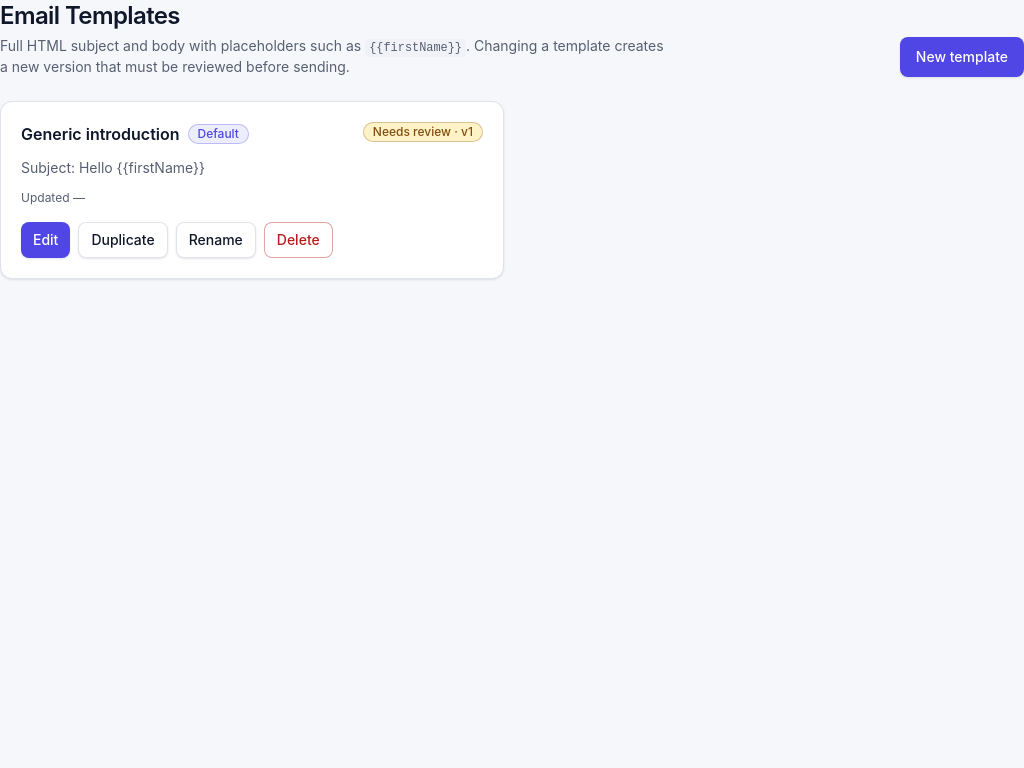
Test: templates page › warns about unsaved changes with an in-app dialog before discarding
This screenshot has width=1024, height=768.
Click the button "New template".
click(962, 57)  # box [900, 37, 1023, 77]
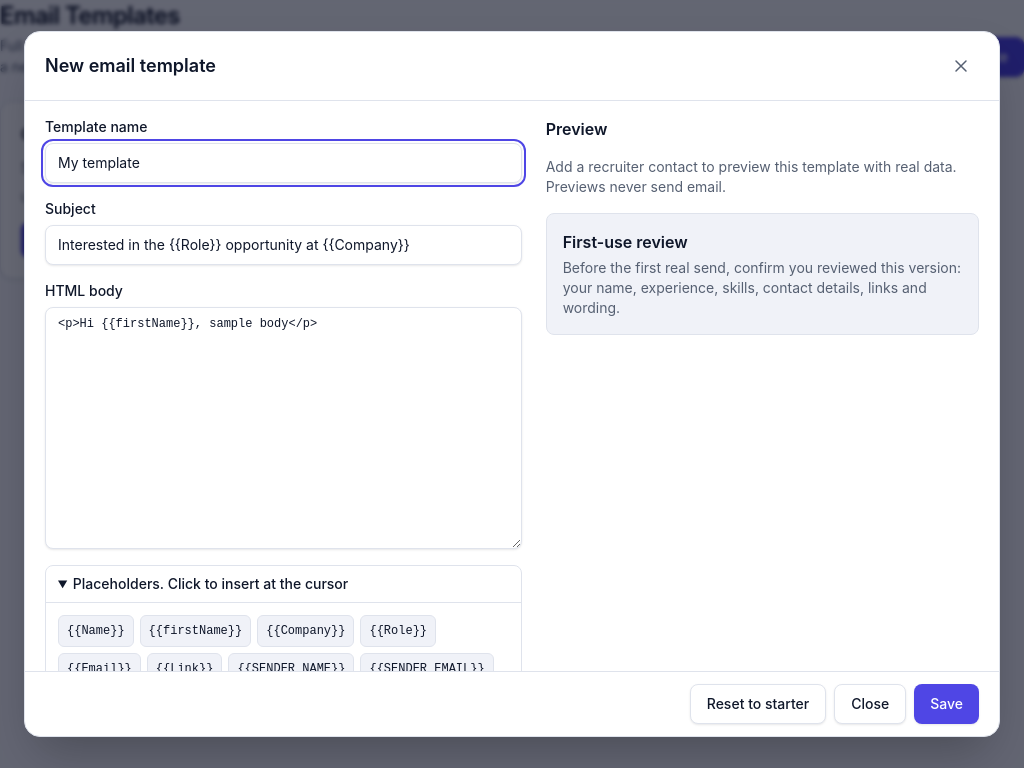
Type " edited" into the field labelled "Subject".
click(283, 245); type(" edited")  # box [45, 225, 522, 265]
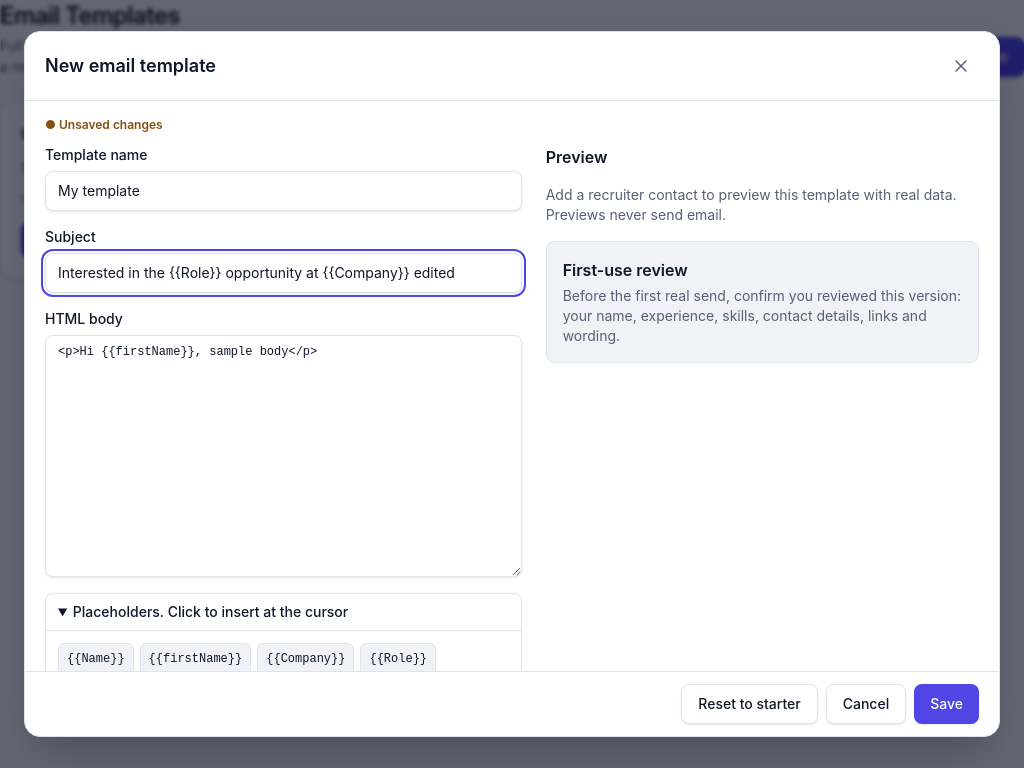
Click the button "Cancel".
click(866, 704)  # box [826, 684, 906, 724]
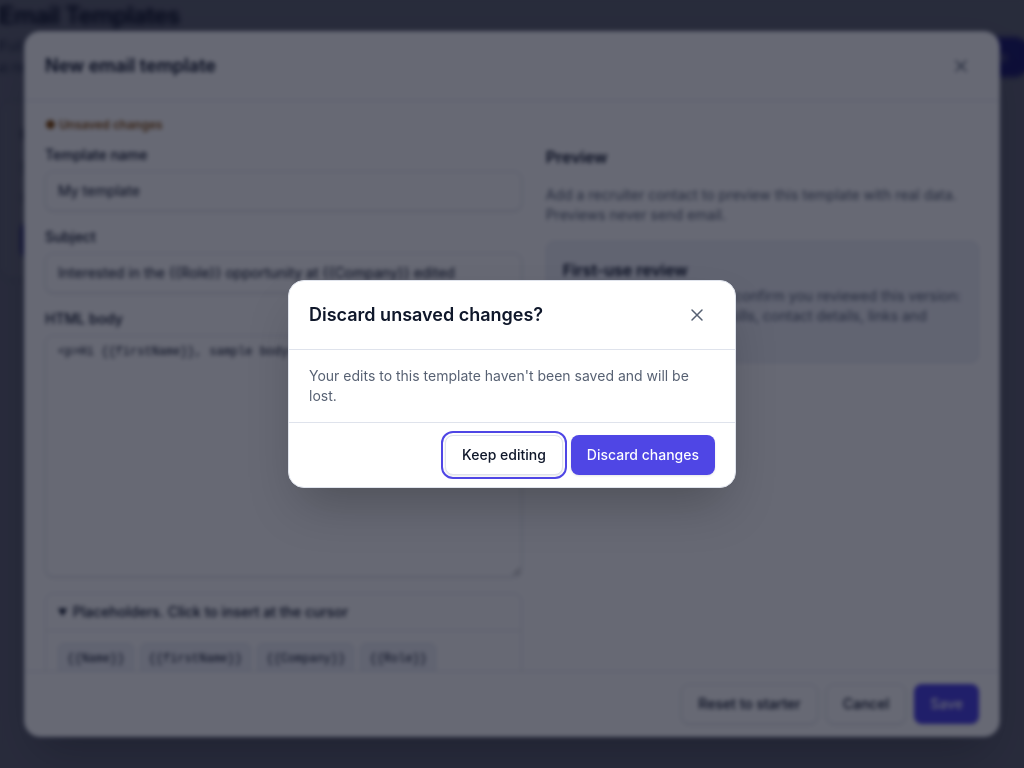
Click the button "Keep editing".
click(504, 455)  # box [445, 435, 563, 475]
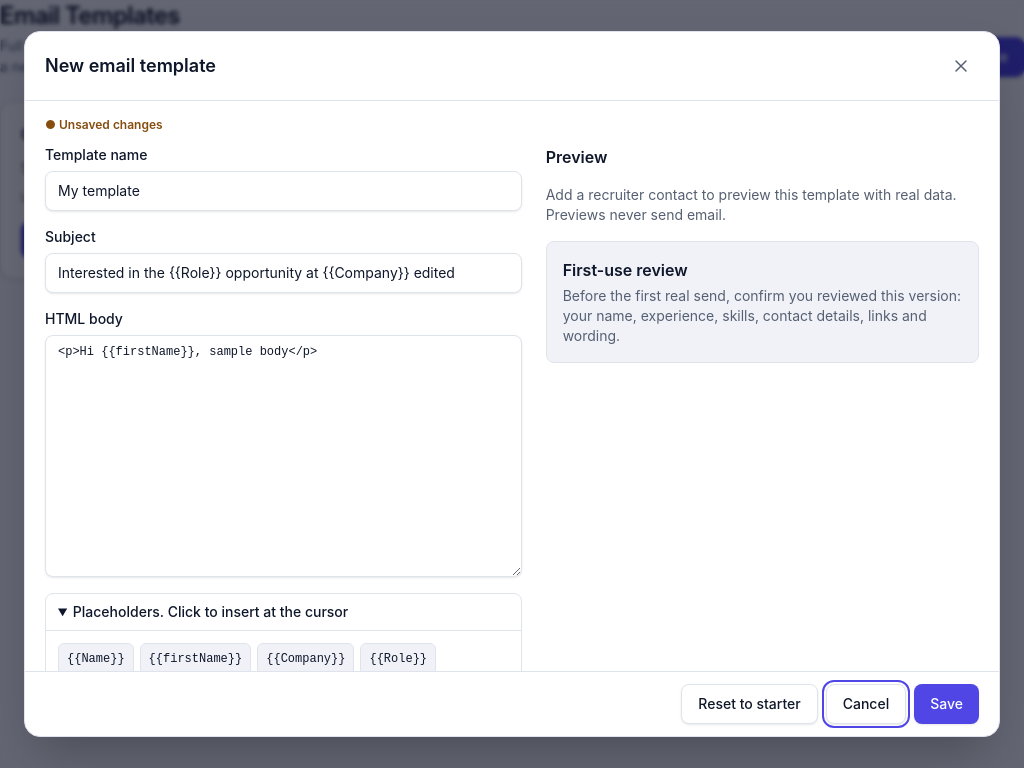
Check: the dialog "New email template" is shown
Click the button "Cancel".
click(866, 704)  # box [826, 684, 906, 724]
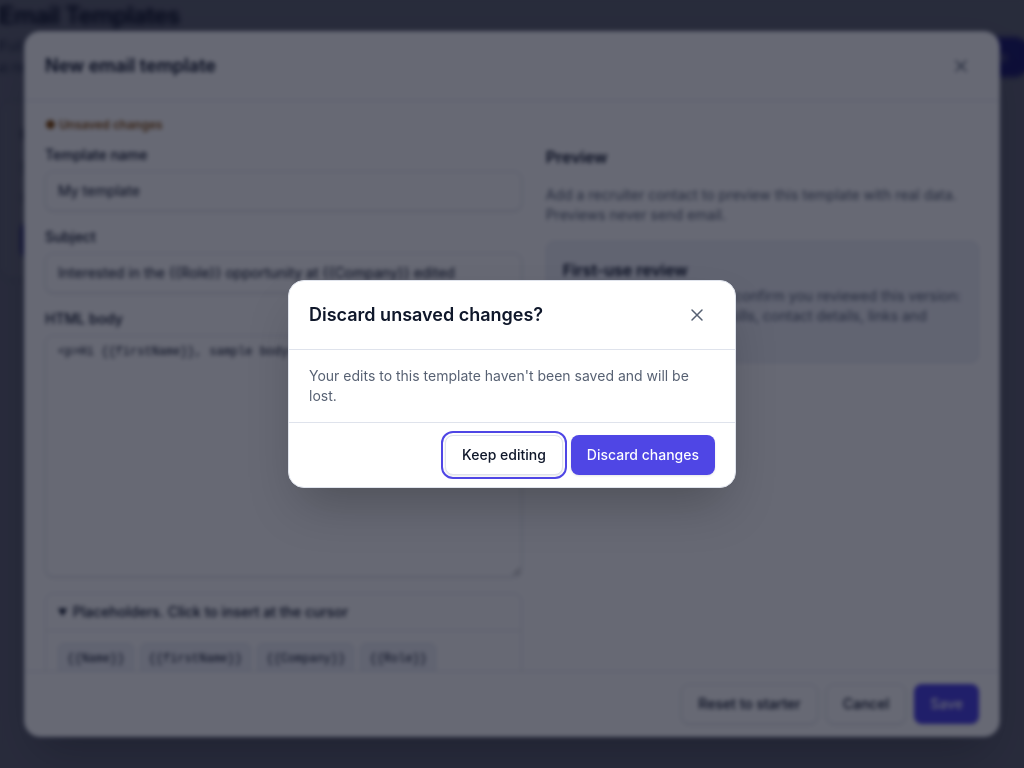
Click the button "Discard changes".
click(643, 455)  # box [571, 435, 715, 475]
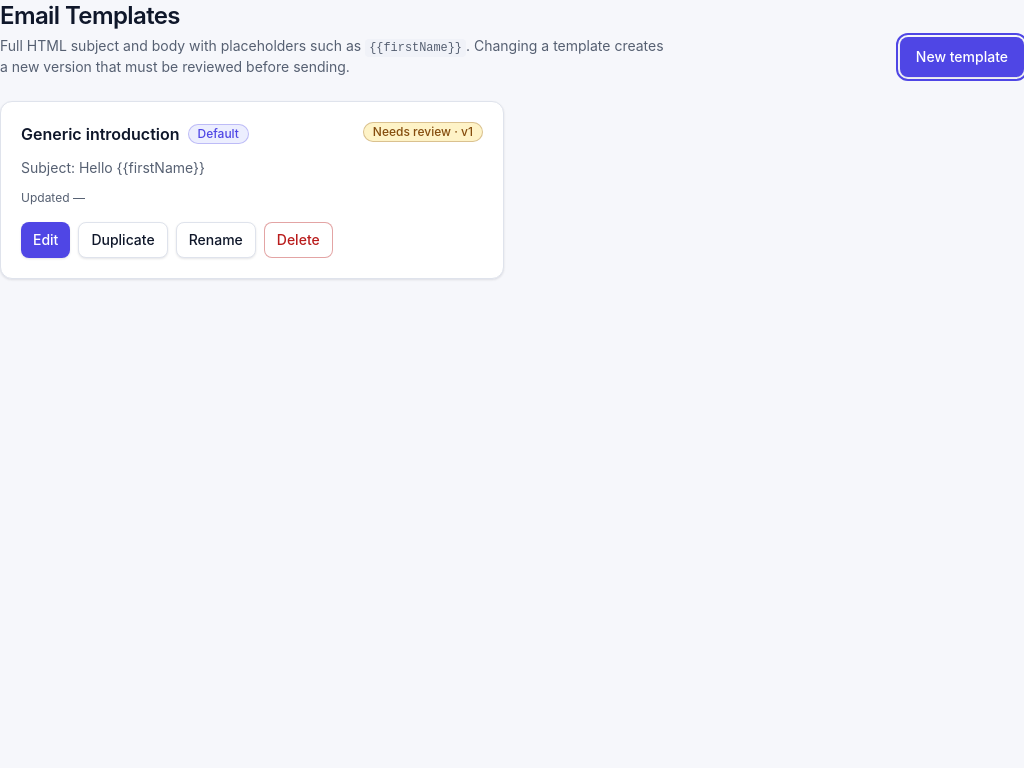
Check: the dialog is gone
